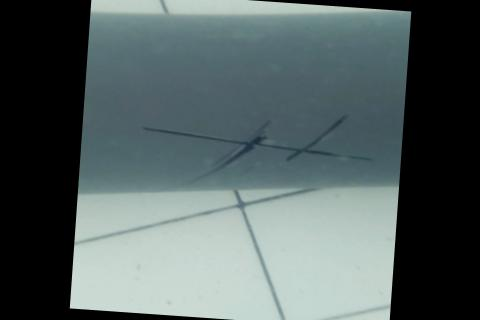keretakan: (137, 96, 380, 197)
